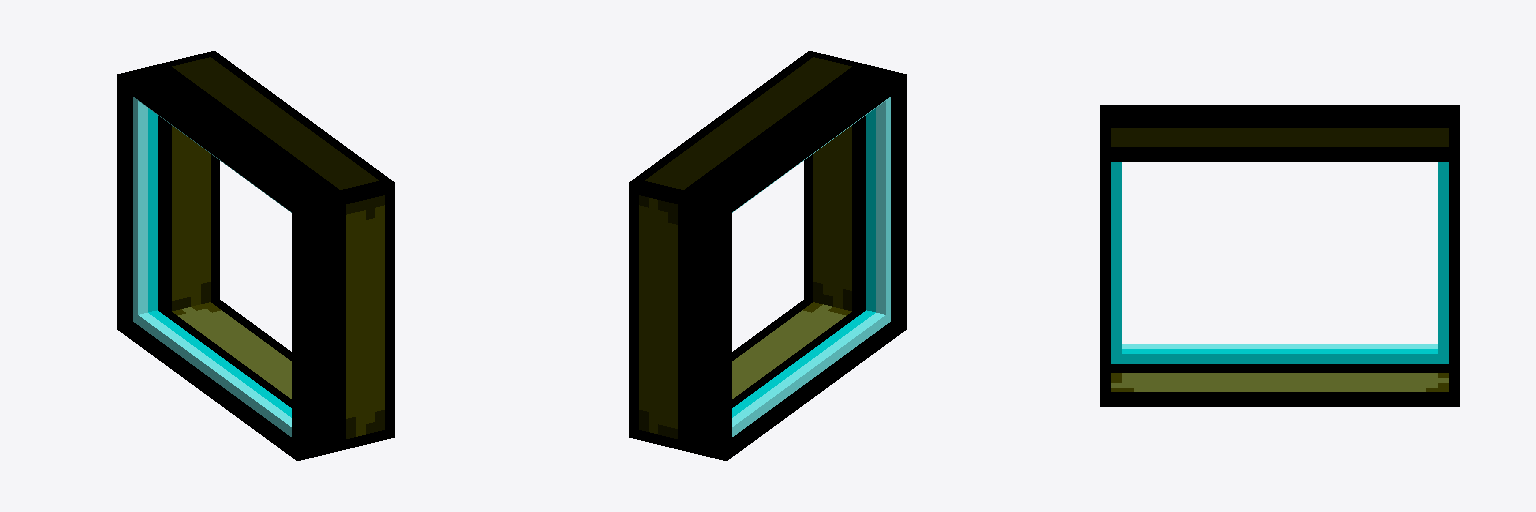
The picture shows the model from 3 angles: view 1: azimuth 30°, elevation 25°; view 2: azimuth 150°, elevation 25°; view 3: azimuth 270°, elevation 25°; orthographic projection.
Parts seen in each view (by area): view 1: LargeWindow.002; view 2: LargeWindow.002; view 3: LargeWindow.002.
Boxes of the visible parts, x1=… form: LargeWindow.002: x1=117, y1=51, x2=394, y2=460; LargeWindow.002: x1=629, y1=51, x2=906, y2=460; LargeWindow.002: x1=1100, y1=105, x2=1459, y2=406.
Bounding box in the file's own units: 1 × 2.5 × 3.2.
1 materials, 1 textured.